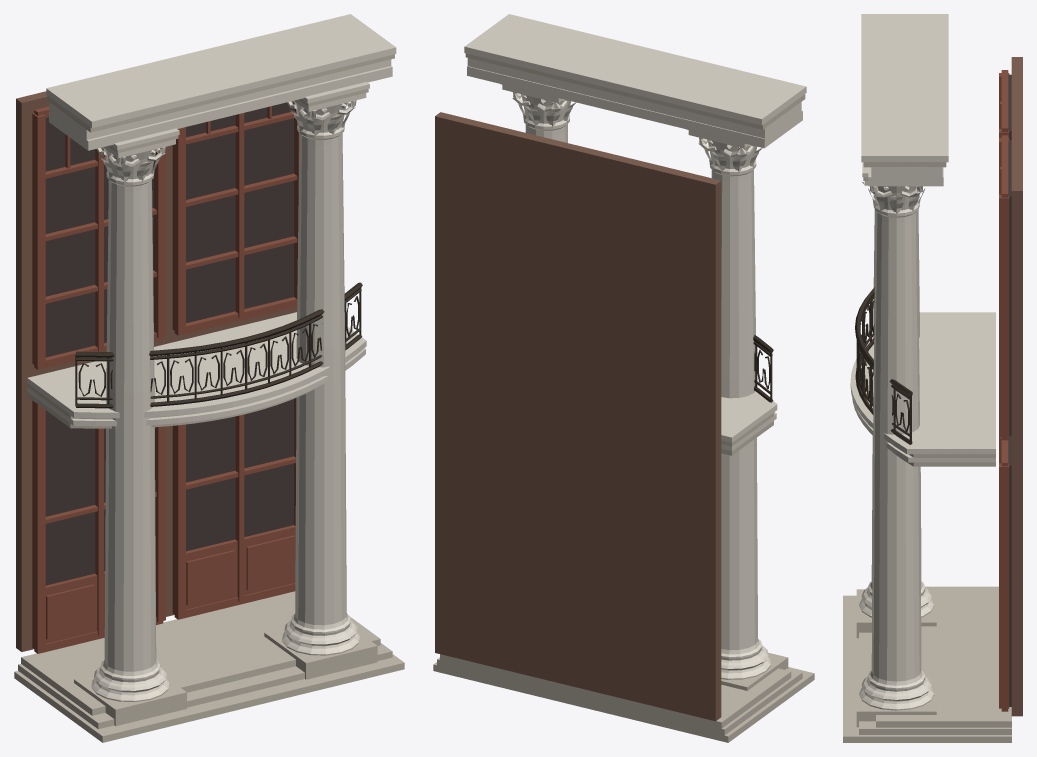
The model's file is hongkou-tang-residence-south-balcony-bay-lod.glb.
3 renders of one model, left to right at view 1: azimuth 30°, elevation 25°; view 2: azimuth 150°, elevation 25°; view 3: azimuth 270°, elevation 25°, orthographic. The views are drawn at different scales.
Visible parts, largest first — view 1: 原汤公馆南门廊中跨弧形阳台与双柱; view 2: 原汤公馆南门廊中跨弧形阳台与双柱; view 3: 原汤公馆南门廊中跨弧形阳台与双柱.
Part boxes in pixels (box(x1,y1,x2,y2)): 原汤公馆南门廊中跨弧形阳台与双柱: box(14, 14, 404, 742); 原汤公馆南门廊中跨弧形阳台与双柱: box(433, 14, 814, 742); 原汤公馆南门廊中跨弧形阳台与双柱: box(843, 14, 1022, 742).
Bounding box in the file's own units: 3.58 × 6.9 × 1.92.
